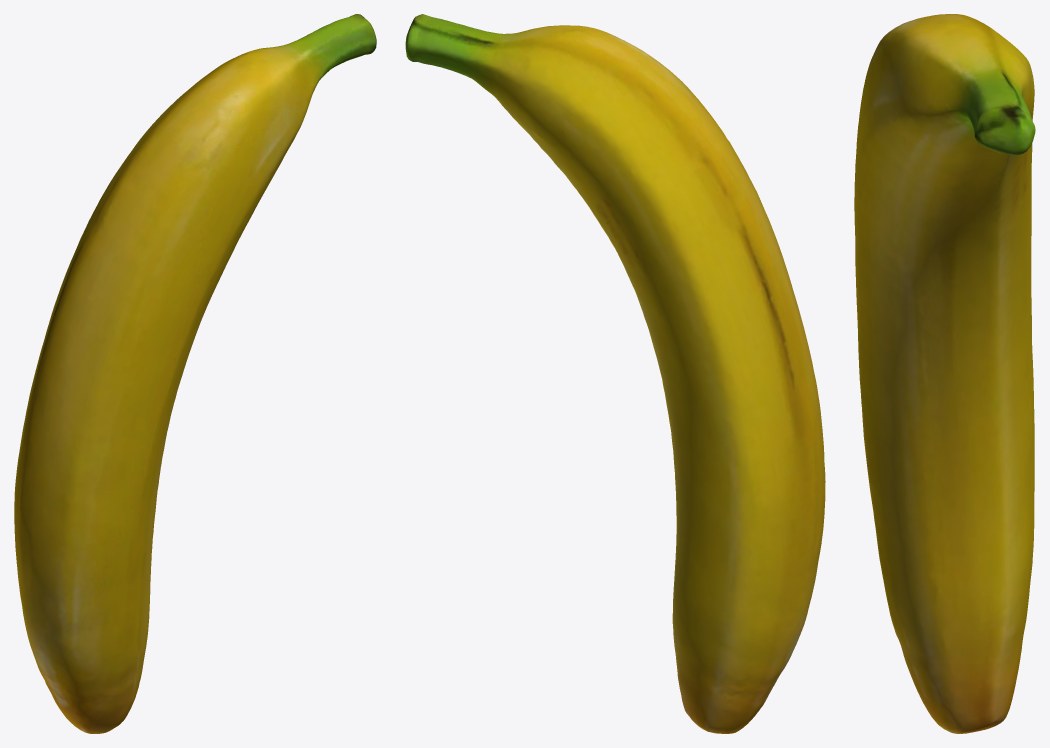
The model's file is ddg-ycb_011_banana.glb.
3 views of the same model, side by side, from view 1: azimuth 30°, elevation 25°; view 2: azimuth 150°, elevation 25°; view 3: azimuth 270°, elevation 25° (orthographic). The views are drawn at different scales.
Parts seen in each view (by area): view 1: textured(Clone); view 2: textured(Clone); view 3: textured(Clone).
Part boxes in pixels (x1,y1,x2,y2): textured(Clone): (14,14,376,733); textured(Clone): (405,14,825,733); textured(Clone): (854,14,1035,733).
Size of the model in its own units: 1.03 by 1.68 by 0.3462.
Materials: 1 (1 with a texture image).
